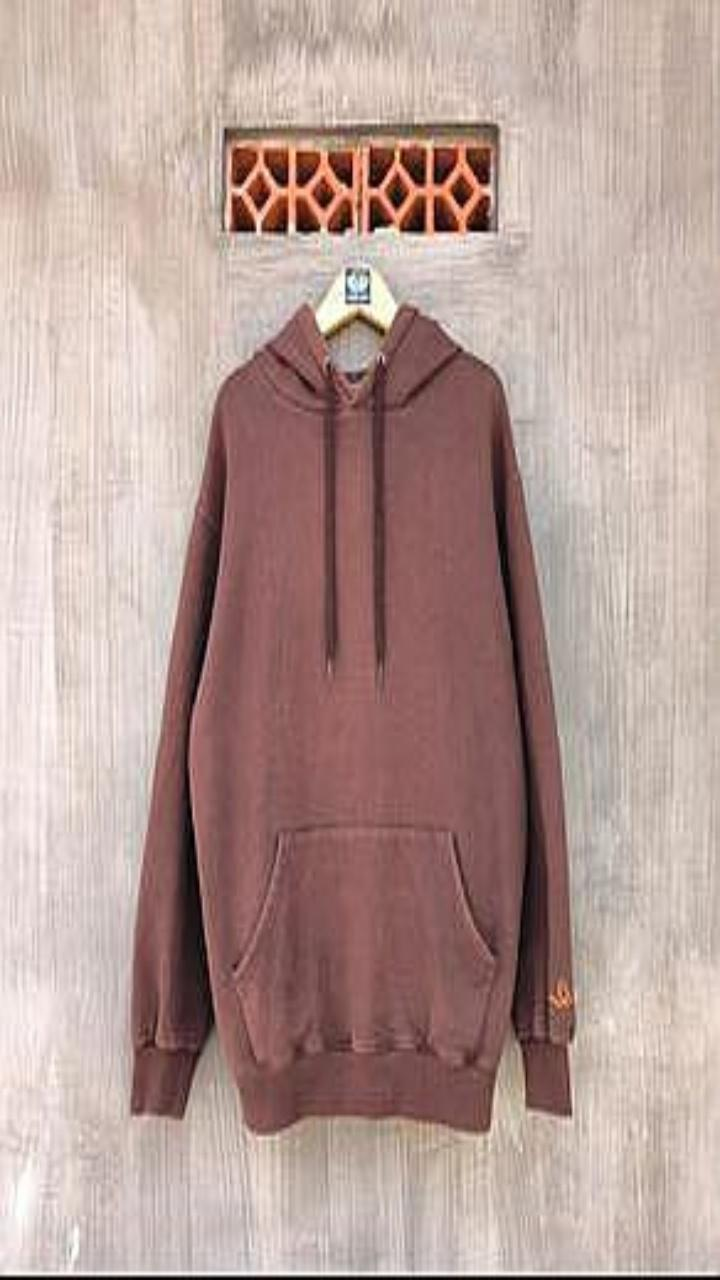Hoodie: (131, 303, 574, 1132)
